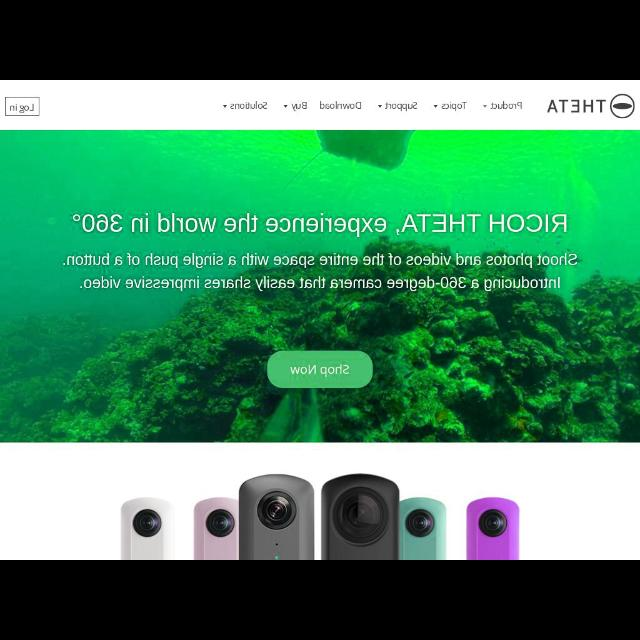backgroundimage: (1, 129, 640, 443)
icon: (482, 102, 488, 110), (221, 104, 227, 110), (432, 104, 438, 108), (377, 104, 383, 108), (282, 104, 288, 108)
image: (106, 459, 528, 559), (545, 88, 633, 118)
spinner: (216, 94, 272, 116), (478, 95, 528, 114), (426, 95, 472, 115), (374, 96, 420, 114), (277, 94, 313, 116)
text: (59, 246, 578, 296), (65, 204, 572, 236), (288, 361, 349, 377), (229, 98, 267, 112), (320, 100, 362, 112), (8, 100, 34, 114), (490, 100, 524, 110), (384, 101, 418, 111), (440, 100, 468, 110), (292, 100, 310, 110)
textbutton: (266, 346, 376, 388), (2, 95, 42, 117)
toolbar: (1, 82, 639, 128)
